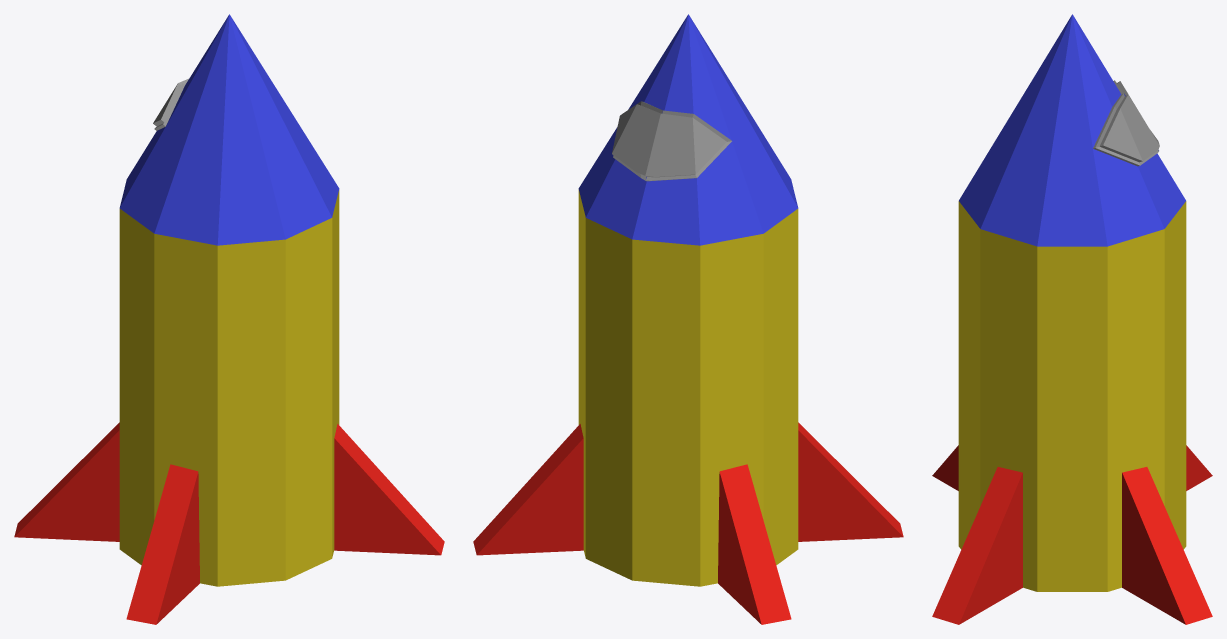
The model's file is roket.fbx.
The picture shows the model from 3 angles, left to right: view 1: azimuth 30°, elevation 25°; view 2: azimuth 150°, elevation 25°; view 3: azimuth 270°, elevation 25°; orthographic projection.
Parts seen in each view (by area): view 1: Cylinder; view 2: Cylinder; view 3: Cylinder.
Part boxes in pixels (x1,y1,x2,y2): Cylinder: [14, 14, 444, 624]; Cylinder: [473, 14, 903, 624]; Cylinder: [932, 14, 1212, 624].
Size of the model in its own units: 173 by 273 by 130.
